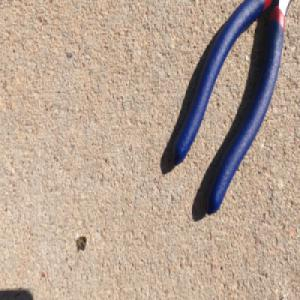Pliers: (171, 0, 295, 218)
